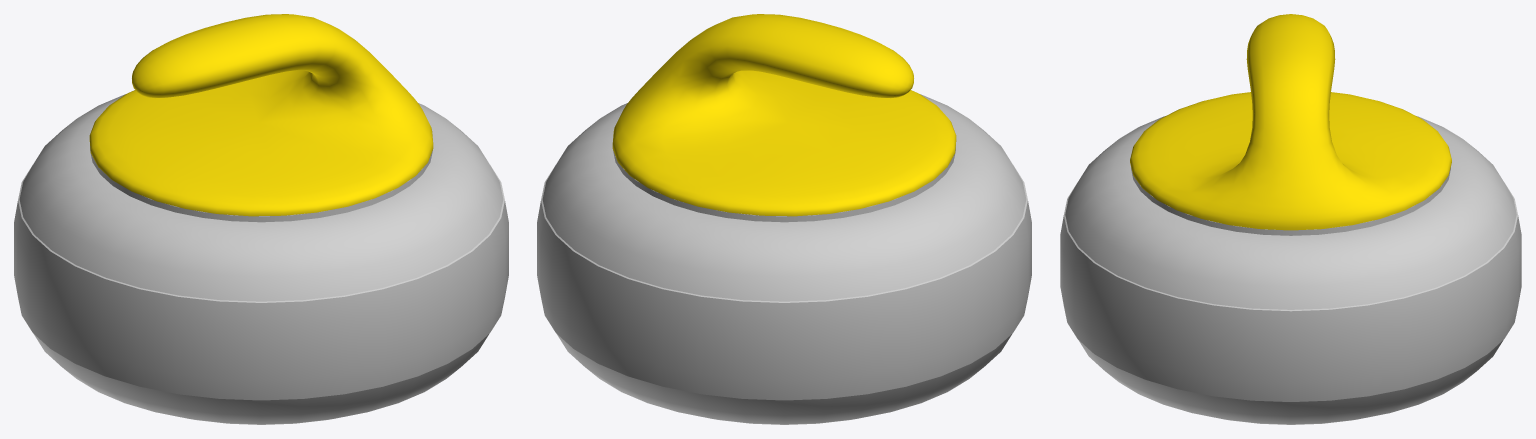
3 views of the same model, side by side, from view 1: azimuth 30°, elevation 25°; view 2: azimuth 150°, elevation 25°; view 3: azimuth 270°, elevation 25° (orthographic). The views are drawn at different scales.
Visible parts, largest first — view 1: Granite, Handle, Gasket; view 2: Granite, Handle, Gasket; view 3: Granite, Handle, Gasket.
Part boxes in pixels (x1,y1,x2,y2): Granite: [14, 94, 508, 424]; Handle: [89, 14, 433, 216]; Gasket: [90, 146, 432, 222]; Granite: [537, 94, 1031, 424]; Handle: [612, 14, 956, 216]; Gasket: [613, 146, 955, 222]; Granite: [1060, 116, 1521, 424]; Handle: [1130, 14, 1451, 230]; Gasket: [1131, 167, 1450, 235].
Size of the model in its own units: 2 by 1.45 by 2.
